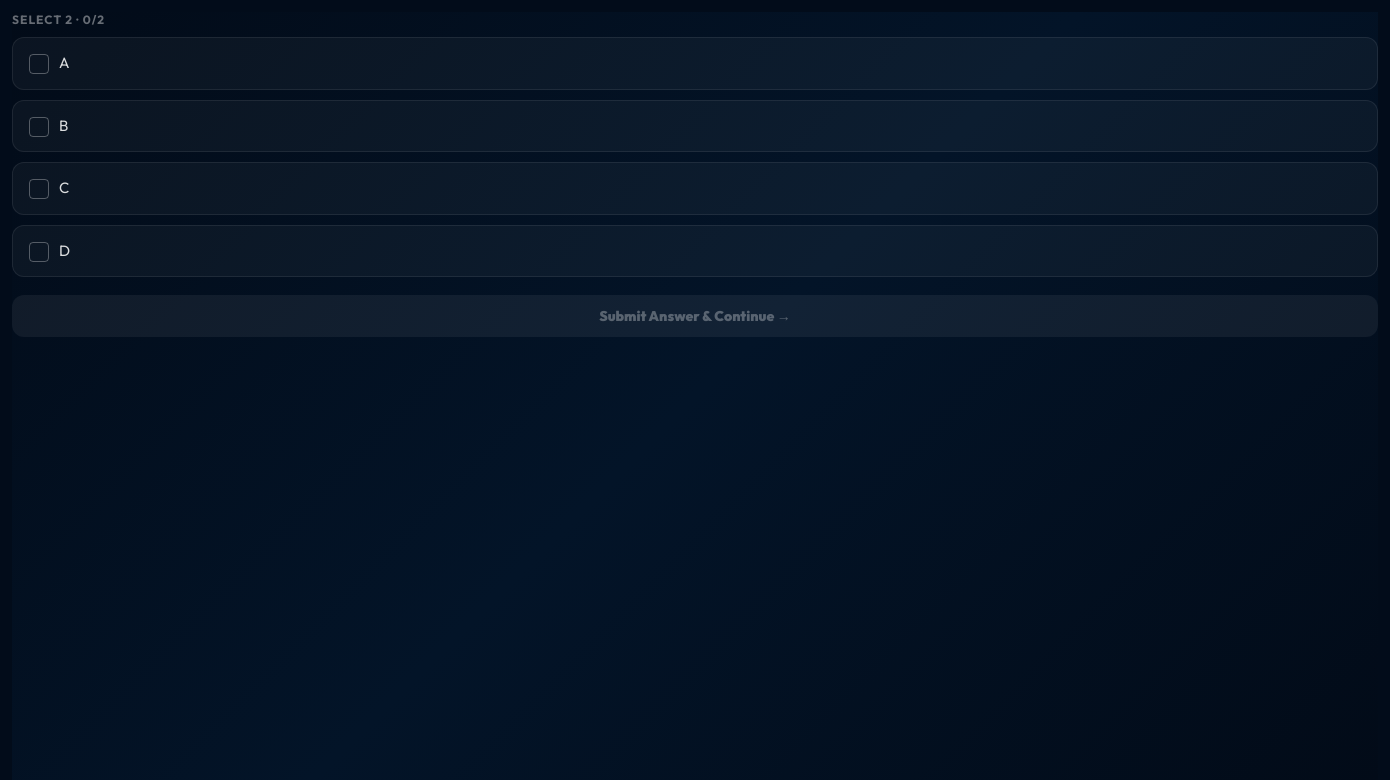
Test: ExtendedMRCard / extended_mr_n › shows running selection counter
Click the button "A": [39, 64] box x1=12 y1=37 x2=1378 y2=90
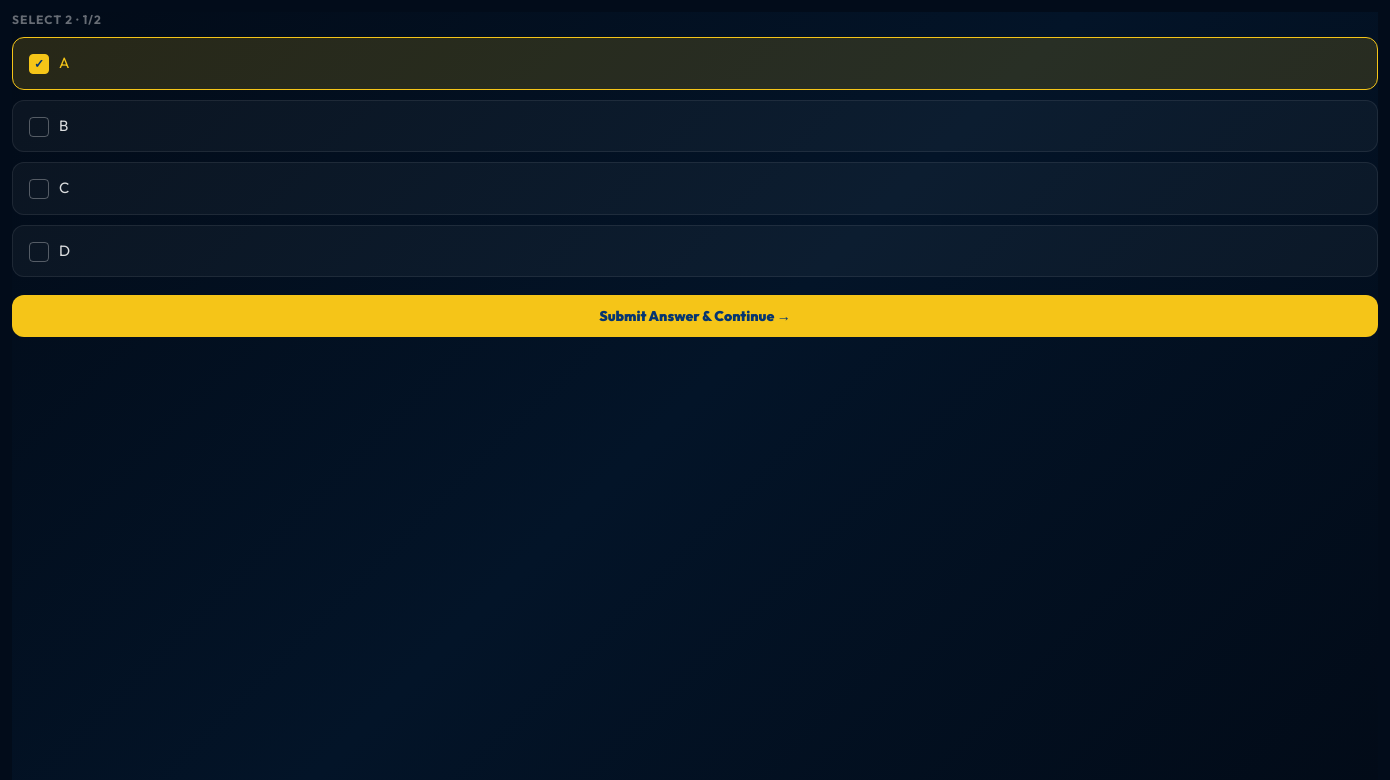
expect the text "Select 2 · 1/2" is shown: met, box x1=12 y1=12 x2=102 y2=27
